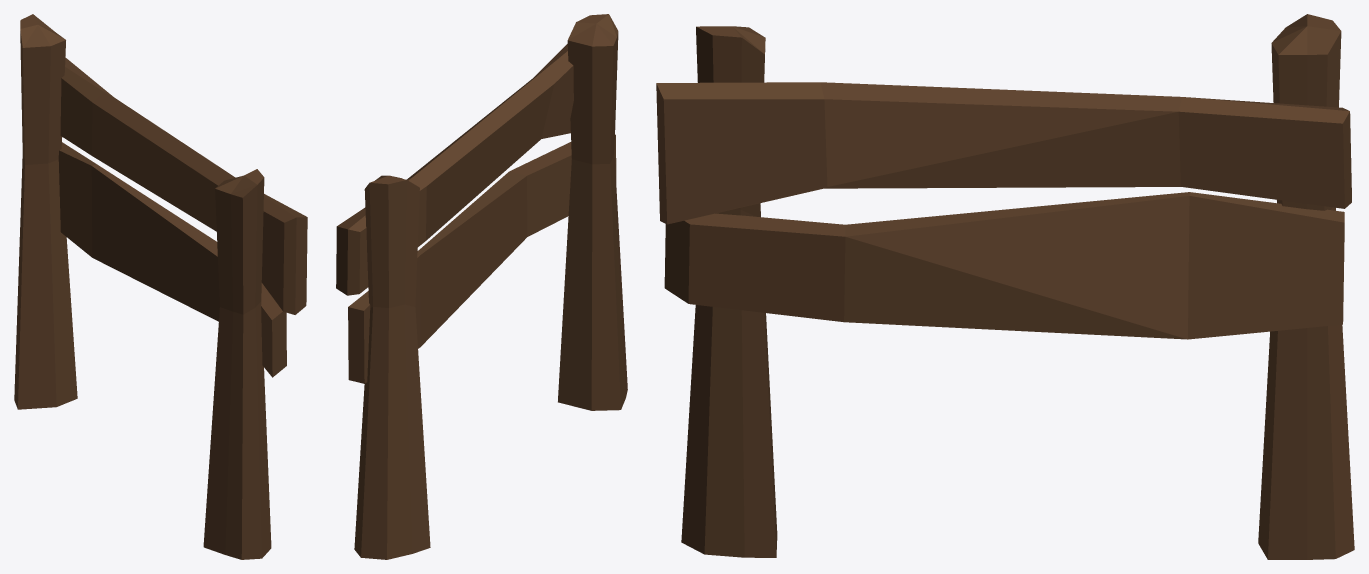
The model's file is railFence1-compressed.glb.
The picture shows the model from 3 angles, left to right: view 1: azimuth 30°, elevation 25°; view 2: azimuth 150°, elevation 25°; view 3: azimuth 270°, elevation 25°; orthographic projection. The views are drawn at different scales.
Parts seen in each view (by area): view 1: railFence1; view 2: railFence1; view 3: railFence1.
Part boxes in pixels (left/top/right/bottom): railFence1: left=14, top=14, right=307, bottom=559; railFence1: left=336, top=14, right=627, bottom=559; railFence1: left=656, top=14, right=1354, bottom=559.
Size of the model in its own units: 0.2335 by 1.05 by 1.29.
